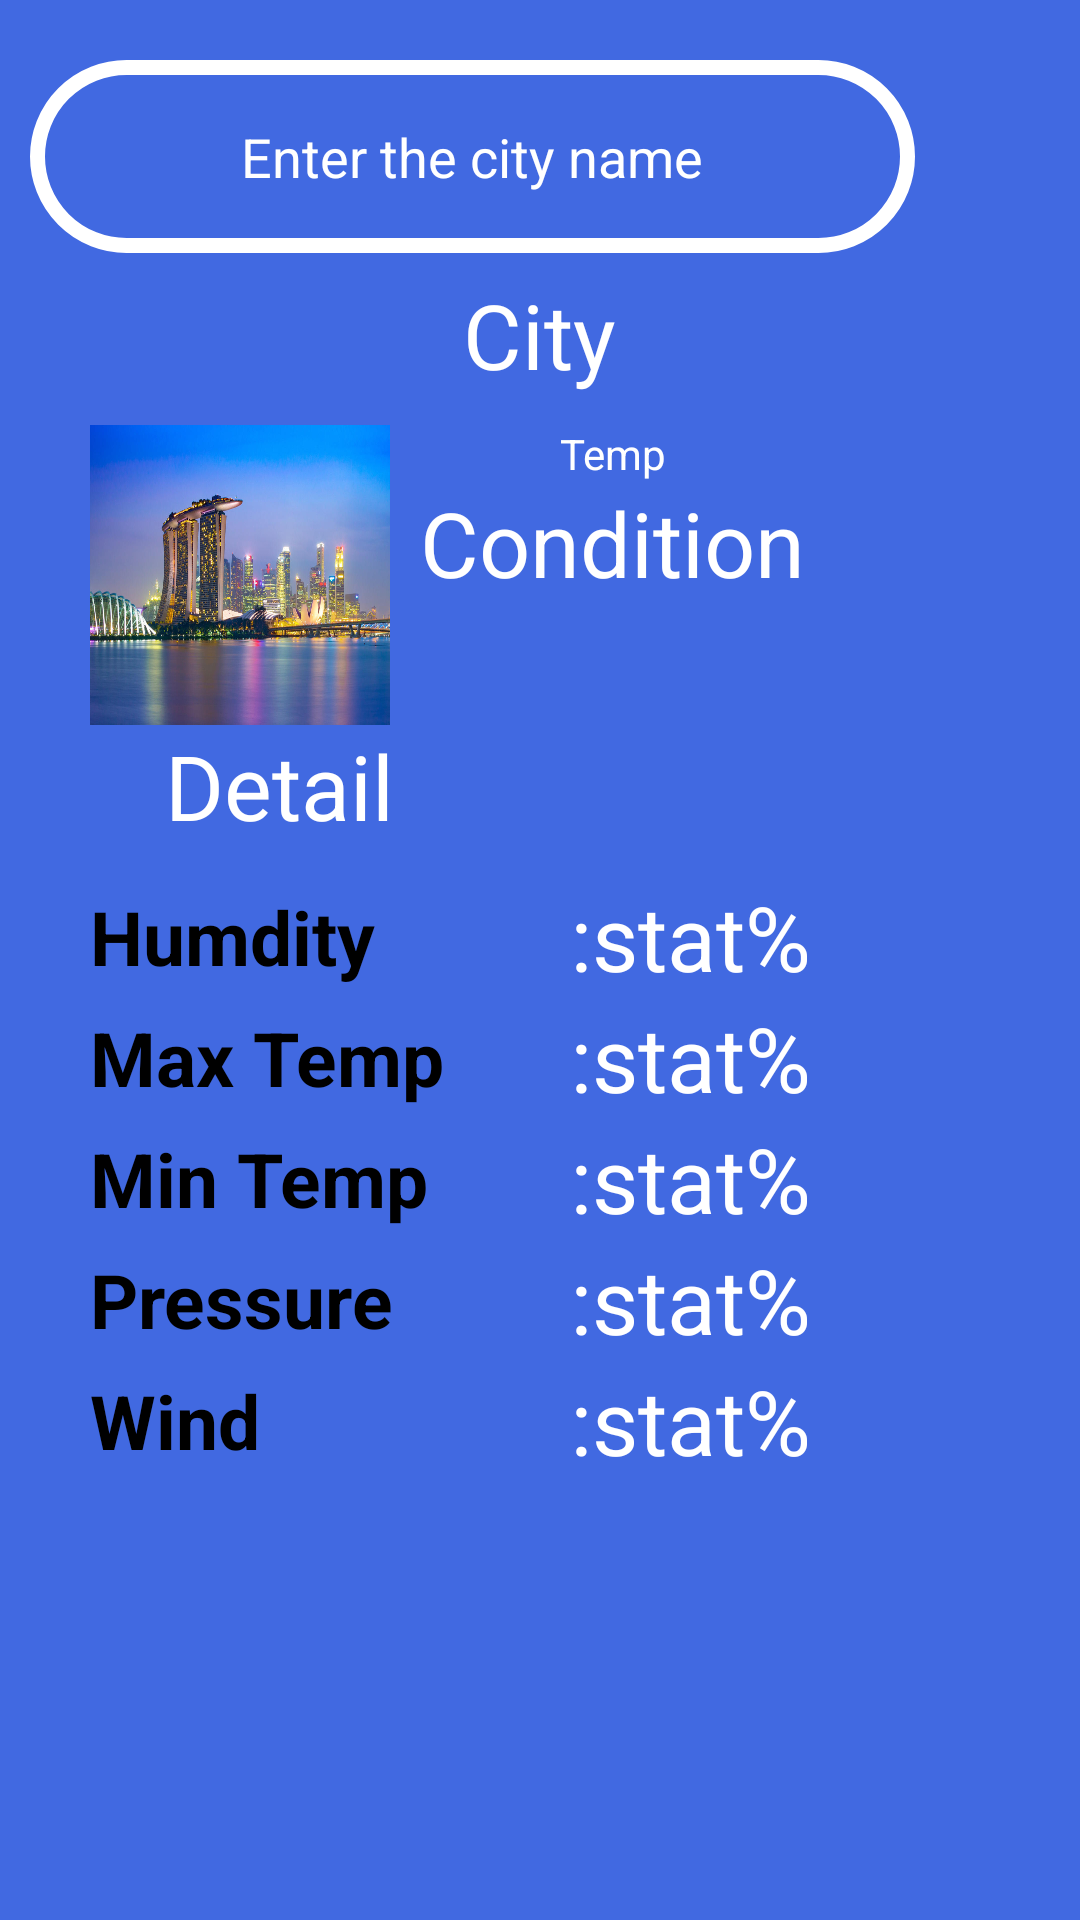

Icons on this 1080 x 1920 Android screen, each with its box as (x1, y1, x2, y2):
sgweather: (90, 425, 390, 725)
